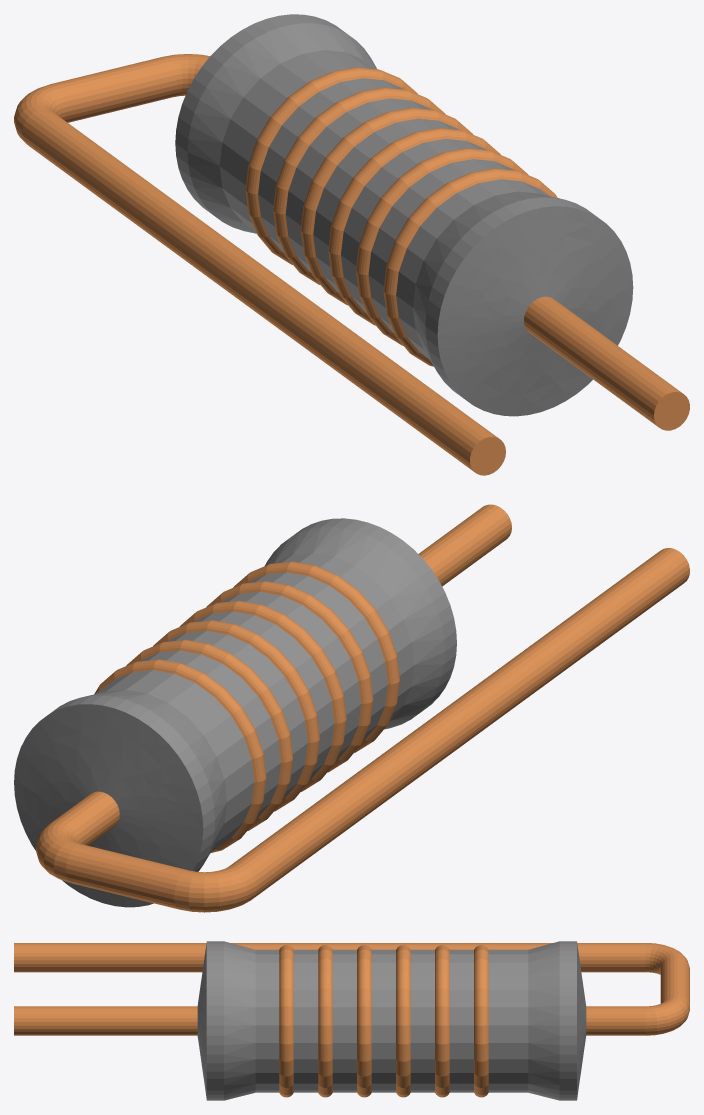
The model's file is L_Axial_L6.6mm_D2.7mm_P2.54mm_Vertical_Vishay_IM-2.glb.
3 views of the same model, one above another, from view 1: azimuth 30°, elevation 25°; view 2: azimuth 150°, elevation 25°; view 3: azimuth 270°, elevation 25° (orthographic). The views are drawn at different scales.
Visible parts, largest first — view 1: Shape_IndexedFaceSet.002, Shape_IndexedFaceSet.025, Shape_IndexedFaceSet.018, Shape_IndexedFaceSet.001, Shape_IndexedFaceSet.017, Shape_IndexedFaceSet.023, Shape_IndexedFaceSet.005, Shape_IndexedFaceSet.009, Shape_IndexedFaceSet.011, Shape_IndexedFaceSet.015, Shape_IndexedFaceSet.013, Shape_IndexedFaceSet.007 (+13 smaller); view 2: Shape_IndexedFaceSet.025, Shape_IndexedFaceSet.020, Shape_IndexedFaceSet.004, Shape_IndexedFaceSet.017, Shape_IndexedFaceSet.023, Shape_IndexedFaceSet.001, Shape_IndexedFaceSet.016, Shape_IndexedFaceSet.013, Shape_IndexedFaceSet.015, Shape_IndexedFaceSet.007, Shape_IndexedFaceSet.011, Shape_IndexedFaceSet.009 (+12 smaller); view 3: Shape_IndexedFaceSet.025, Shape_IndexedFaceSet.017, Shape_IndexedFaceSet.001, Shape_IndexedFaceSet.018, Shape_IndexedFaceSet.004, Shape_IndexedFaceSet.007, Shape_IndexedFaceSet.009, Shape_IndexedFaceSet.011, Shape_IndexedFaceSet.013, Shape_IndexedFaceSet.015, Shape_IndexedFaceSet.005, Shape_IndexedFaceSet.003 (+13 smaller).
Boxes of the visible parts, x1,y1,x2,y2 form: Shape_IndexedFaceSet.002: [437, 206, 633, 416]; Shape_IndexedFaceSet.025: [22, 109, 498, 471]; Shape_IndexedFaceSet.018: [187, 23, 376, 233]; Shape_IndexedFaceSet.001: [524, 296, 682, 426]; Shape_IndexedFaceSet.017: [219, 50, 375, 232]; Shape_IndexedFaceSet.023: [52, 57, 177, 122]; Shape_IndexedFaceSet.005: [396, 179, 548, 359]; Shape_IndexedFaceSet.009: [341, 139, 486, 313]; Shape_IndexedFaceSet.011: [313, 118, 458, 292]; Shape_IndexedFaceSet.015: [258, 78, 403, 252]; Shape_IndexedFaceSet.013: [285, 98, 430, 272]; Shape_IndexedFaceSet.007: [368, 159, 513, 333]; Shape_IndexedFaceSet.025: [229, 548, 689, 899]; Shape_IndexedFaceSet.020: [14, 704, 203, 907]; Shape_IndexedFaceSet.004: [265, 527, 445, 729]; Shape_IndexedFaceSet.017: [95, 670, 254, 851]; Shape_IndexedFaceSet.023: [66, 844, 187, 909]; Shape_IndexedFaceSet.001: [418, 504, 511, 586]; Shape_IndexedFaceSet.016: [94, 659, 266, 853]; Shape_IndexedFaceSet.013: [167, 631, 307, 799]; Shape_IndexedFaceSet.015: [140, 650, 280, 818]; Shape_IndexedFaceSet.007: [247, 572, 387, 740]; Shape_IndexedFaceSet.011: [193, 611, 334, 779]; Shape_IndexedFaceSet.009: [220, 592, 360, 760]; Shape_IndexedFaceSet.025: [14, 943, 645, 972]; Shape_IndexedFaceSet.017: [488, 949, 528, 1092]; Shape_IndexedFaceSet.001: [14, 1006, 197, 1035]; Shape_IndexedFaceSet.018: [528, 941, 559, 1100]; Shape_IndexedFaceSet.004: [224, 941, 255, 1100]; Shape_IndexedFaceSet.007: [293, 949, 318, 1092]; Shape_IndexedFaceSet.009: [332, 949, 356, 1092]; Shape_IndexedFaceSet.011: [371, 949, 395, 1092]; Shape_IndexedFaceSet.013: [410, 949, 434, 1092]; Shape_IndexedFaceSet.015: [449, 949, 473, 1092]; Shape_IndexedFaceSet.005: [255, 949, 279, 1092]; Shape_IndexedFaceSet.003: [206, 941, 223, 1100].
Size of the model in its own units: 1.63 by 1.06 by 4.51.
